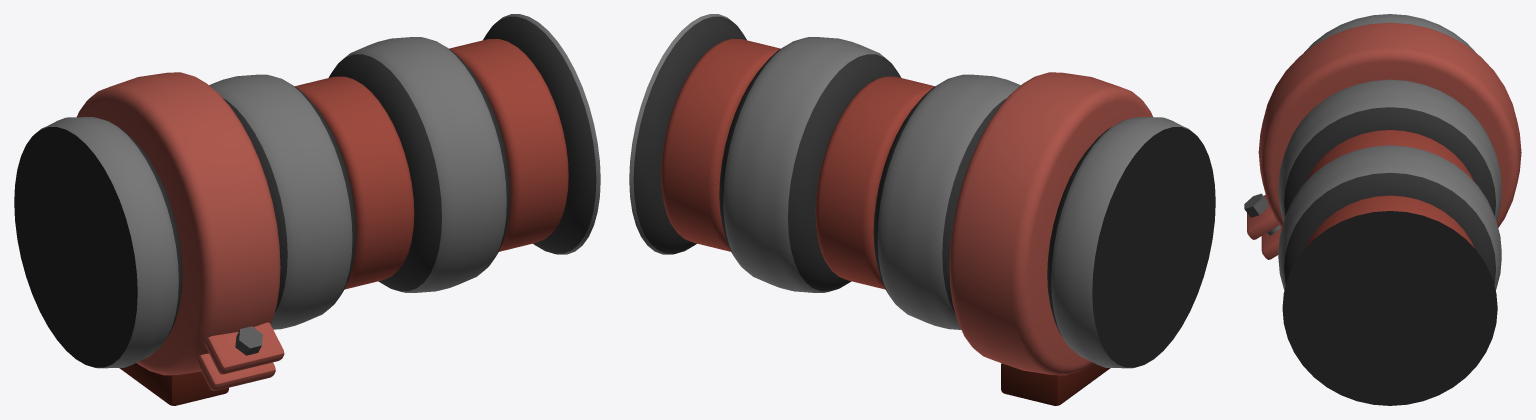
Rendered from rod_segment.glb.
The picture shows the model from 3 angles, left to right: view 1: azimuth 30°, elevation 25°; view 2: azimuth 150°, elevation 25°; view 3: azimuth 270°, elevation 25°; orthographic projection. The views are drawn at different scales.
Parts seen in each view (by area): view 1: bead5.001, collar2.001, bead7.001, bead6.001, band4.001, band3.001, bead8.001, core.001, collar2_ear1.001, collar2_foot.001, collar2_ear0.001, collar2_nut+1.001; view 2: collar2.001, bead5.001, bead7.001, bead6.001, band4.001, band3.001, bead8.001, core.001, collar2_foot.001; view 3: bead8.001, collar2.001, bead7.001, bead6.001, core.001, band4.001, band3.001, bead5.001, collar2_ear1.001, collar2_ear0.001, collar2_nut+1.001.
Part boxes in pixels (bbox=[...]): bead5.001: bbox=[14, 117, 182, 368]; collar2.001: bbox=[77, 72, 280, 375]; bead7.001: bbox=[328, 37, 510, 292]; bead6.001: bbox=[209, 74, 356, 329]; band4.001: bbox=[449, 39, 568, 251]; band3.001: bbox=[295, 76, 414, 289]; bead8.001: bbox=[483, 14, 600, 254]; core.001: bbox=[36, 169, 115, 325]; collar2_ear1.001: bbox=[204, 322, 284, 374]; collar2_foot.001: bbox=[119, 363, 228, 405]; collar2_ear0.001: bbox=[196, 353, 275, 391]; collar2_nut+1.001: bbox=[235, 326, 262, 355]; collar2.001: bbox=[949, 72, 1152, 375]; bead5.001: bbox=[1047, 117, 1215, 368]; bead7.001: bbox=[719, 37, 901, 292]; bead6.001: bbox=[873, 74, 1020, 329]; band4.001: bbox=[661, 39, 780, 251]; band3.001: bbox=[815, 76, 934, 289]; bead8.001: bbox=[629, 14, 746, 254]; core.001: bbox=[1114, 169, 1193, 325]; collar2_foot.001: bbox=[1001, 363, 1110, 405]; bead8.001: bbox=[1282, 211, 1497, 405]; collar2.001: bbox=[1258, 22, 1521, 227]; bead7.001: bbox=[1278, 145, 1501, 290]; bead6.001: bbox=[1278, 79, 1501, 221]; core.001: bbox=[1320, 245, 1459, 371]; band4.001: bbox=[1306, 195, 1474, 247]; band3.001: bbox=[1306, 130, 1473, 180]; bead5.001: bbox=[1303, 14, 1476, 53]; collar2_ear1.001: bbox=[1247, 195, 1279, 239]; collar2_ear0.001: bbox=[1261, 227, 1281, 259]; collar2_nut+1.001: bbox=[1244, 193, 1268, 217].
Size of the model in its own units: 24 by 14.54 by 14.27.
